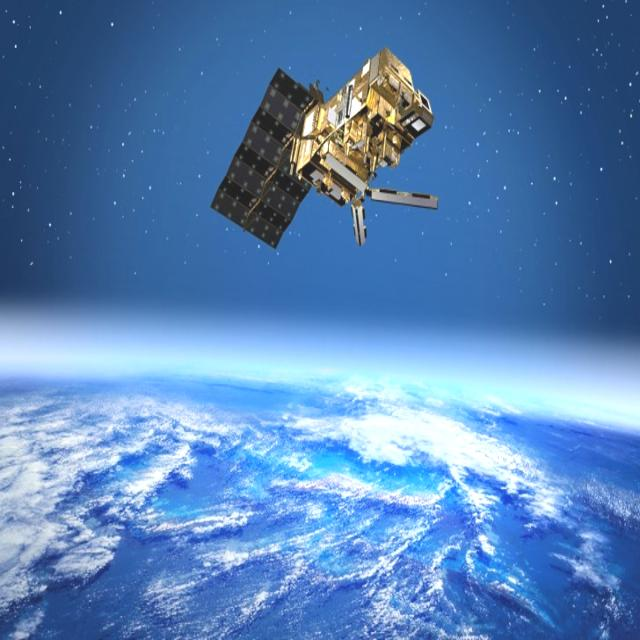satellite: (209, 45, 442, 268)
